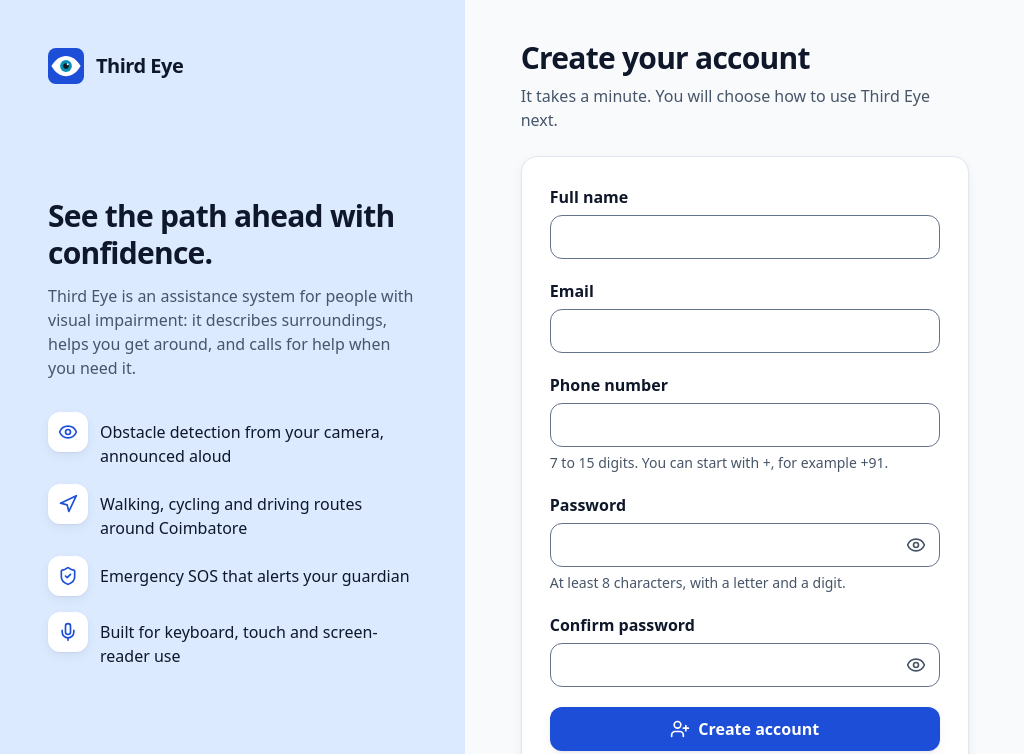
Test case: Register › flags a password with no digit
In the field labelled "Full name": (745, 237) [550,215,940,259], type "Asha Raman"
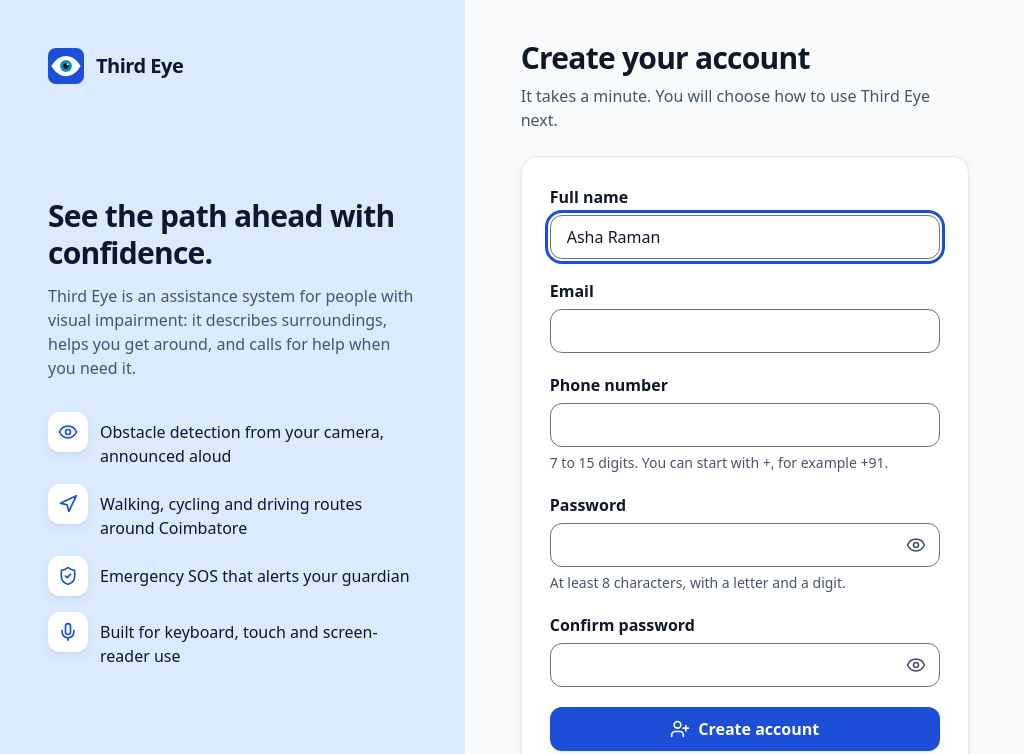
In the field labelled "Email": (745, 331) [550,309,940,353], type "asha@example.com"
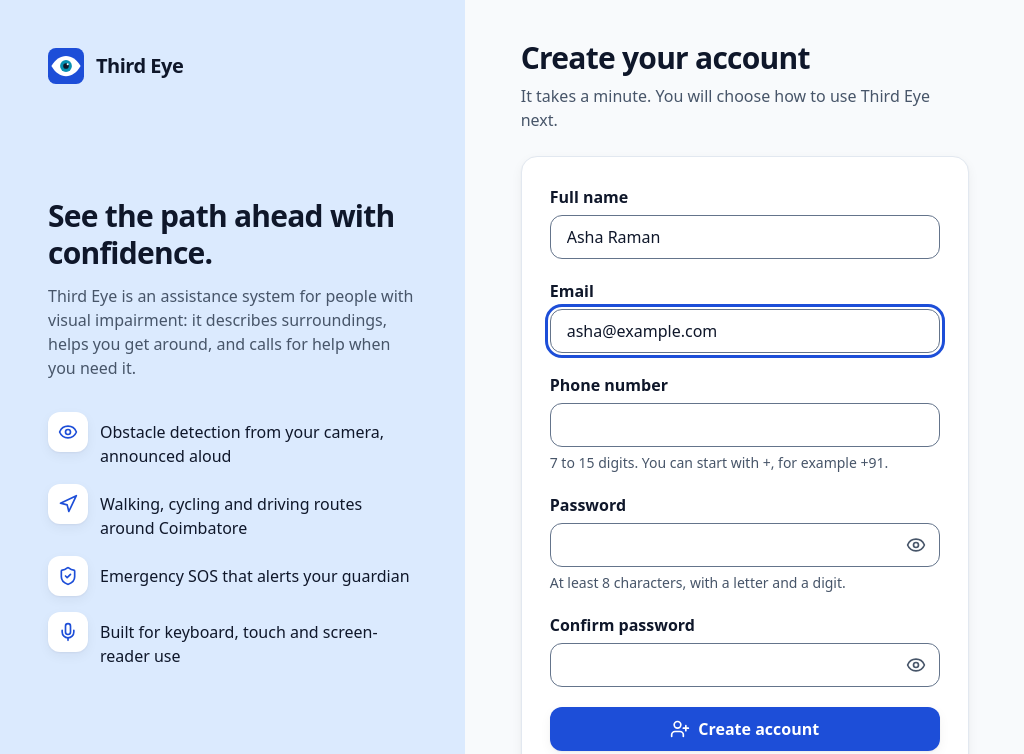
In the field labelled "Phone number": (745, 425) [550,403,940,447], type "+919876543210"
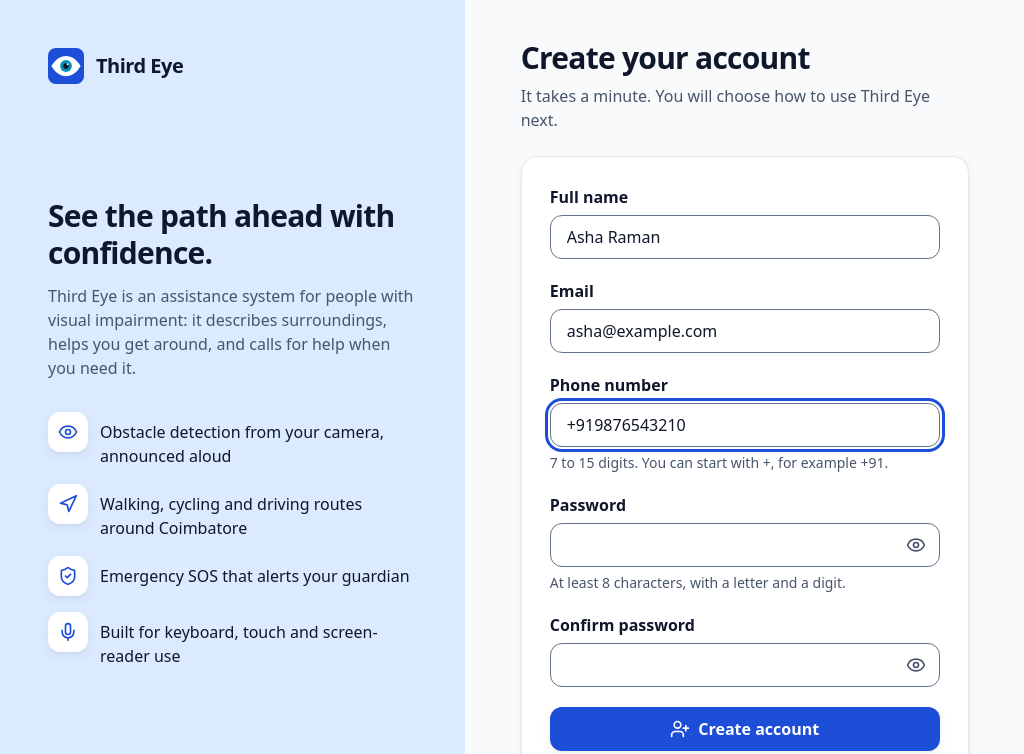
In the password field labelled "Password": (745, 545) [550,523,940,567], type "onlyletters"
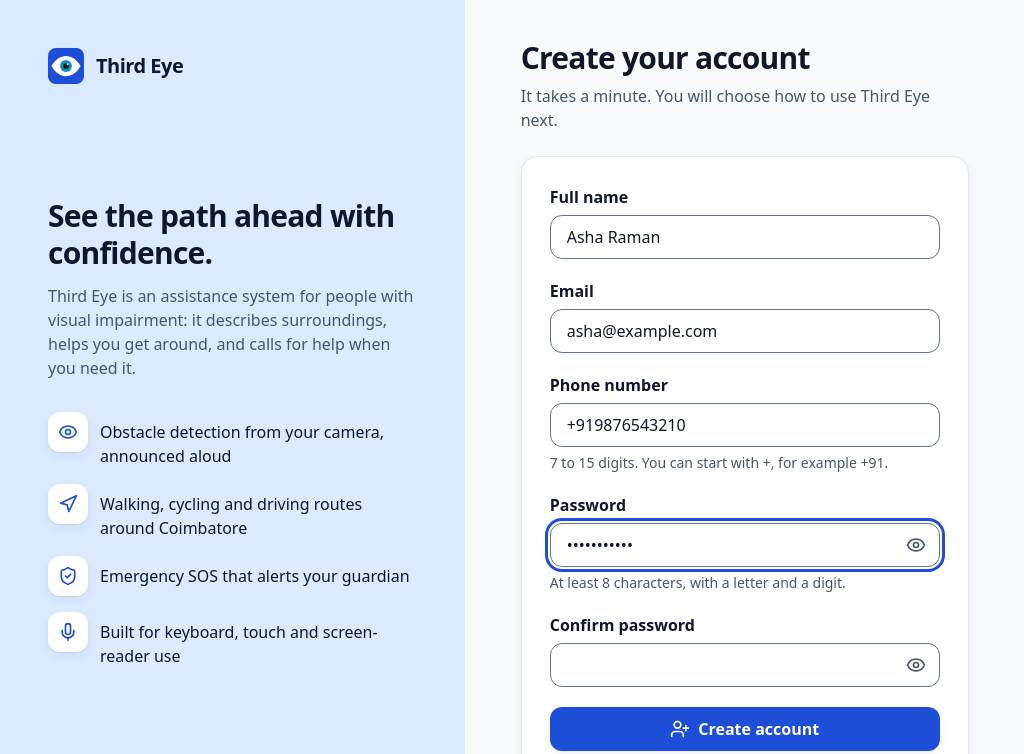
In the password field labelled "Confirm password": (745, 665) [550,643,940,687], type "onlyletters"
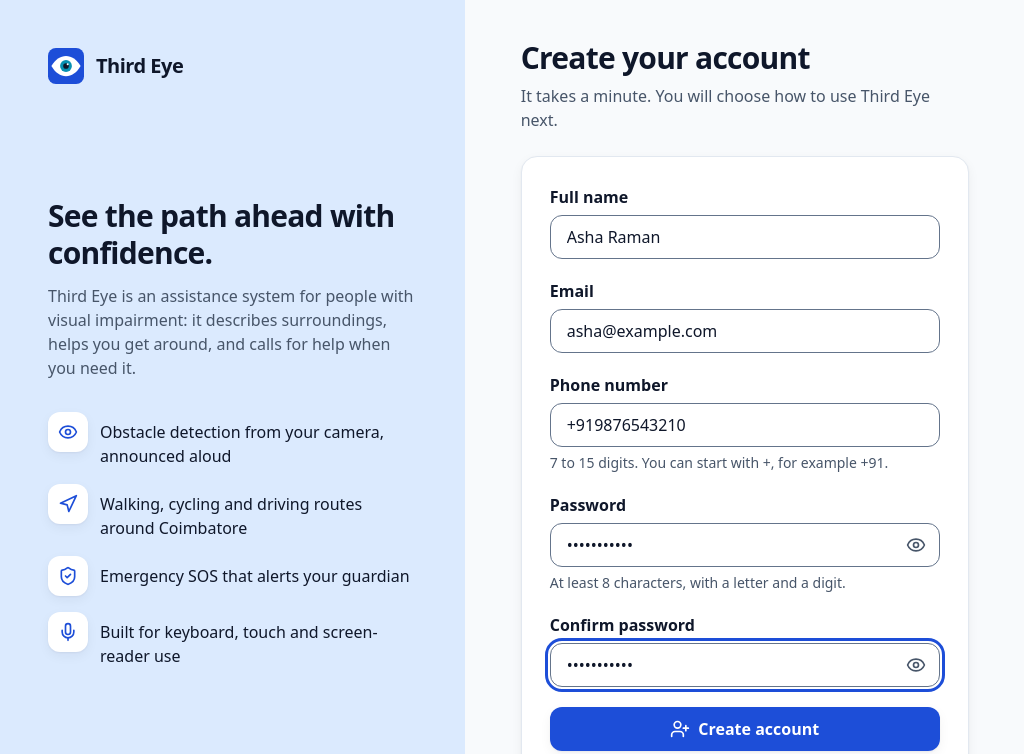
Click the button "Create account": (745, 729) [550,707,940,751]
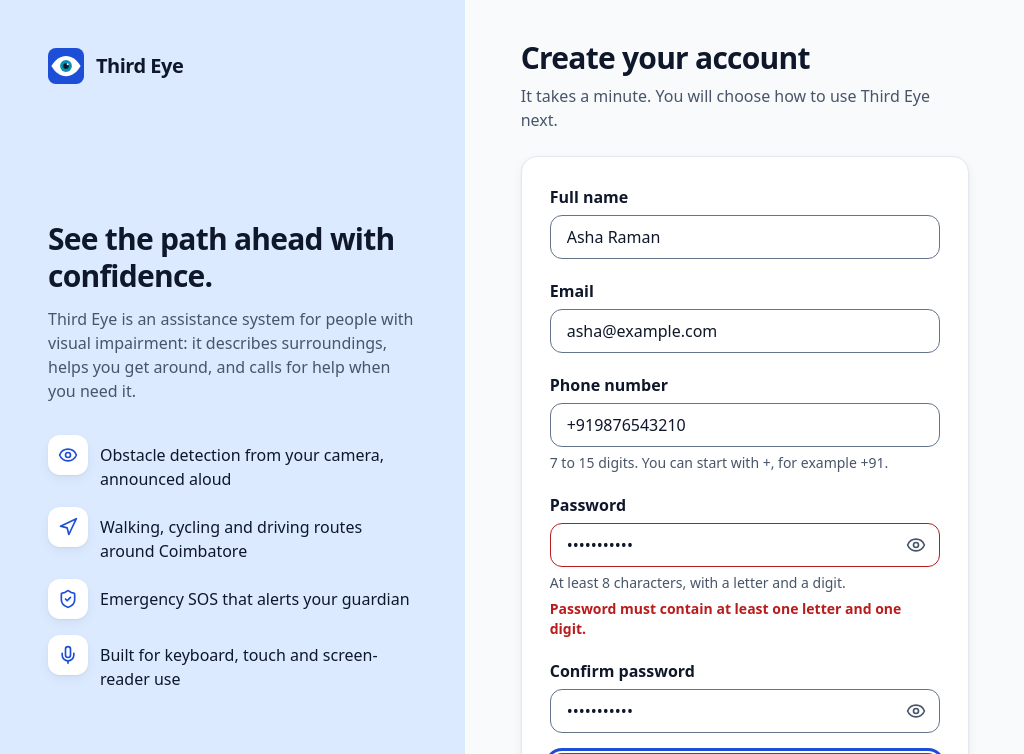
Result: the text "Password must contain at least one letter and one digit." is shown at [550,599,940,639]
